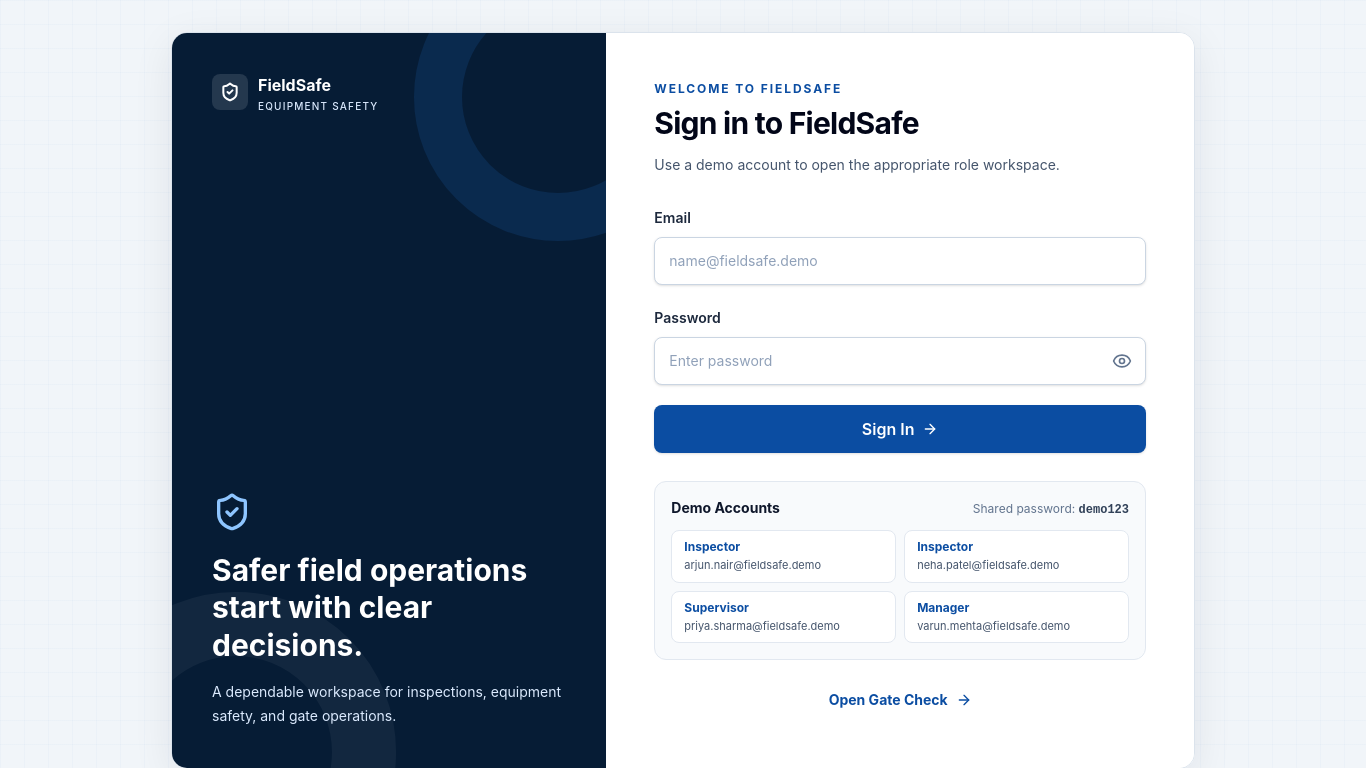
Test case: authentication routing › routes a successful Supervisor login to /supervisor
Expected: the heading "Sign in to FieldSafe" is shown, [654,105,919,141]
Click the button "Supervisor priya.sharma@fieldsafe.demo" at point(784, 617), box [671,590,896,643]
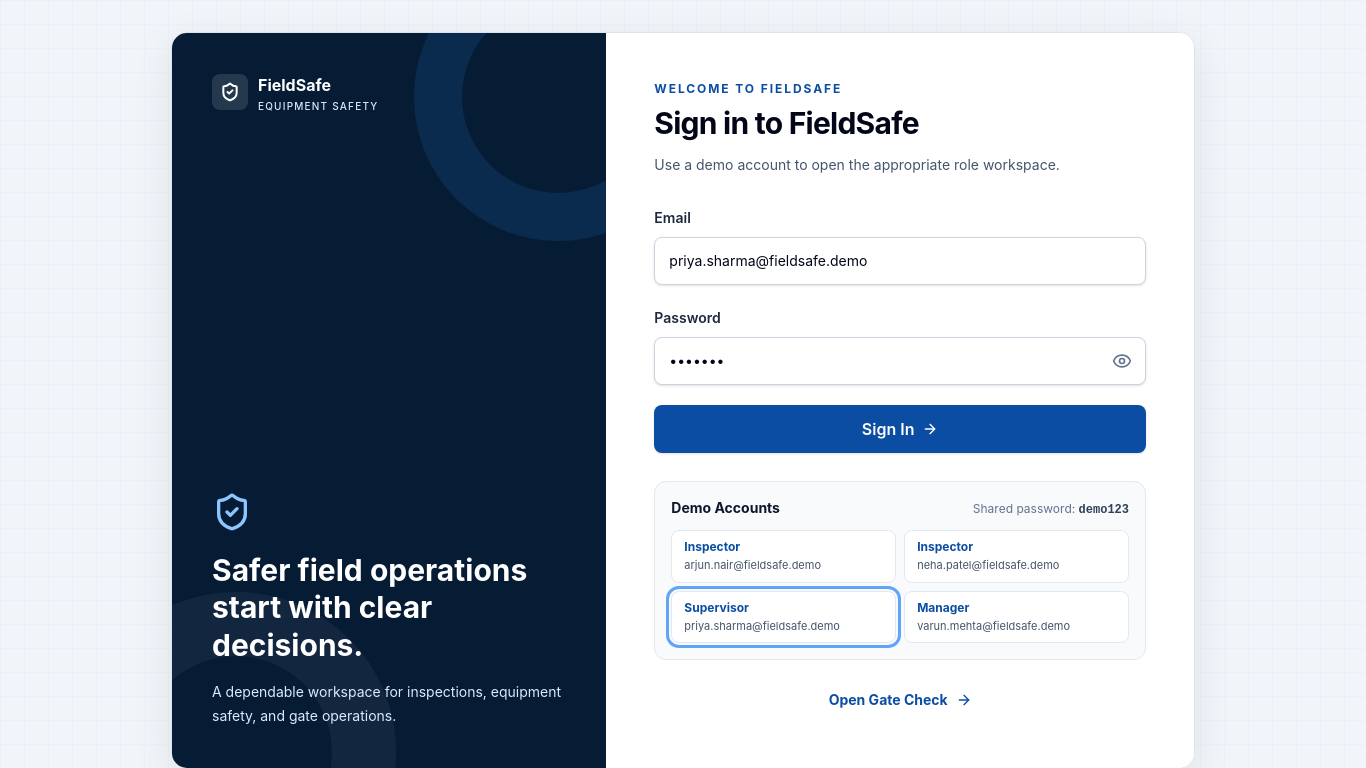
Click the button "Sign In" at point(900, 429), box [654,405,1146,453]
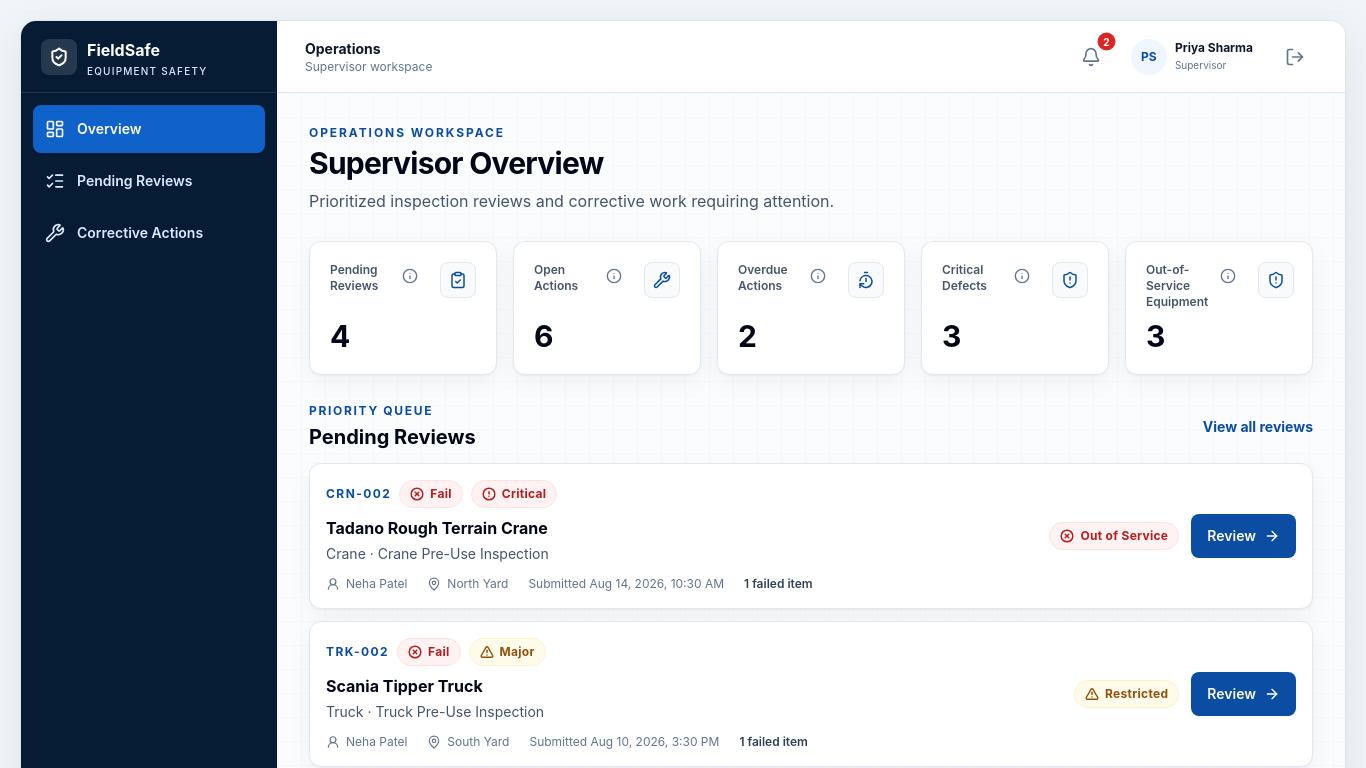
Expected: the heading "Supervisor Overview" is shown, [309,145,603,181]
